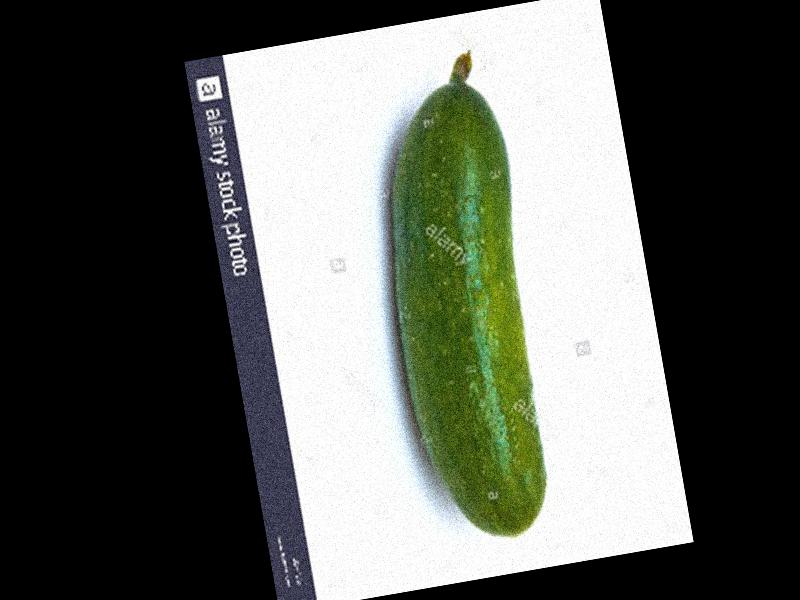Cucumber: (354, 47, 572, 551)
